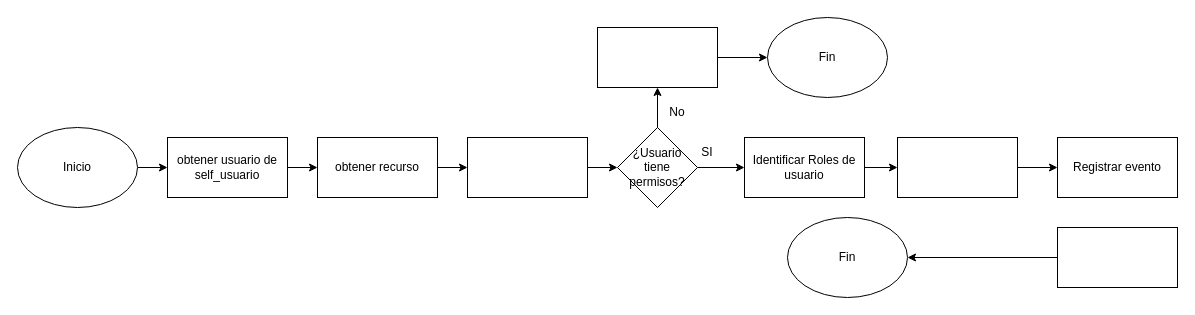
The diagram is 1195 pixels wide and 315 high, and some of its shapes have lost their labels. Each missing label, with the centre of its shape:
"Devolver false" goes at point 657,57.
"Devolver true" goes at point 1117,257.
"evaluar politicas RBAC asociadas" goes at point 957,167.
"identificar atributos" goes at point 527,167.
